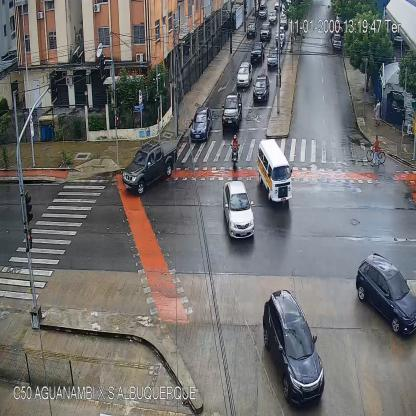bicycle: (366, 136, 386, 166)
car: (263, 290, 325, 403), (356, 253, 416, 334), (123, 142, 178, 192), (260, 138, 292, 202), (223, 182, 254, 238), (190, 108, 213, 142), (222, 93, 243, 128), (254, 75, 270, 105), (236, 62, 252, 88), (250, 41, 265, 62), (267, 47, 280, 68), (260, 20, 271, 40), (276, 26, 286, 43), (246, 22, 257, 36), (333, 34, 342, 50), (375, 99, 380, 126), (280, 13, 288, 29), (259, 5, 268, 19), (268, 10, 276, 22)
motorbike: (232, 134, 240, 170), (280, 36, 283, 53)
